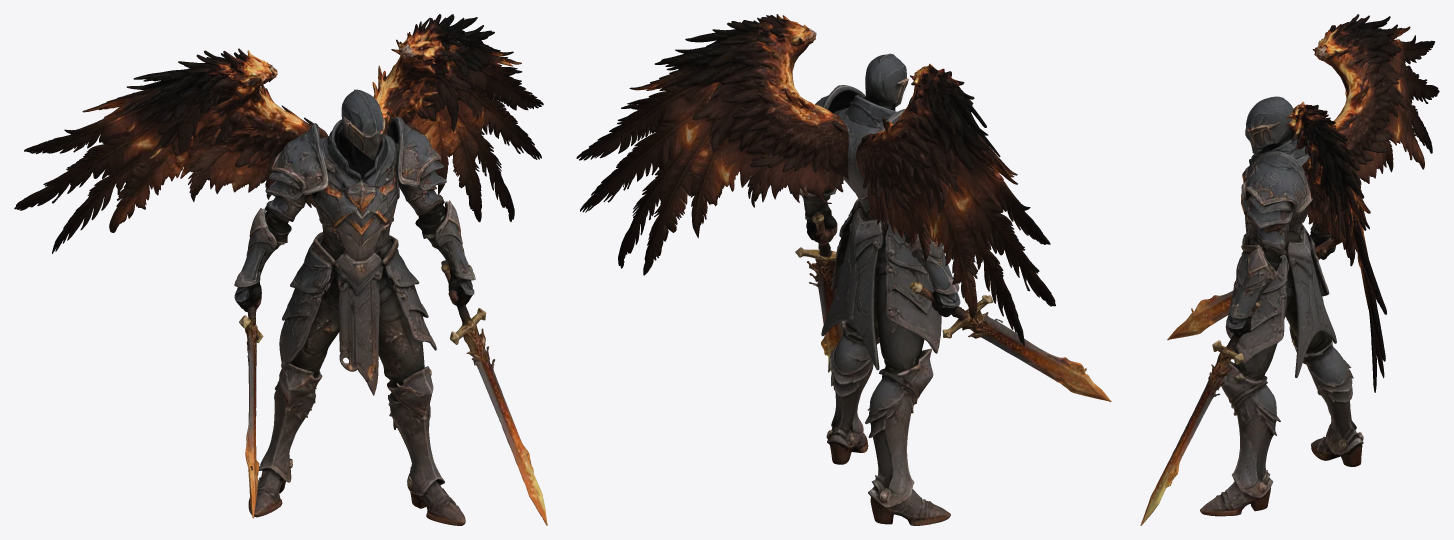
The model's file is ember_winged_fallen_angel_warrior.web.glb.
3 views of the same model, side by side, from view 1: azimuth 30°, elevation 25°; view 2: azimuth 150°, elevation 25°; view 3: azimuth 270°, elevation 25° (orthographic). The views are drawn at different scales.
Visible parts, largest first — view 1: tripo_node_e5b85d13_tripo_mat_e5b85d13_0; view 2: tripo_node_e5b85d13_tripo_mat_e5b85d13_0; view 3: tripo_node_e5b85d13_tripo_mat_e5b85d13_0.
Boxes of the visible parts, x1=… form: tripo_node_e5b85d13_tripo_mat_e5b85d13_0: x1=14, y1=14, x2=547, y2=525; tripo_node_e5b85d13_tripo_mat_e5b85d13_0: x1=576, y1=14, x2=1111, y2=525; tripo_node_e5b85d13_tripo_mat_e5b85d13_0: x1=1140, y1=14, x2=1439, y2=525.
Size of the model in its own units: 0.9772 by 0.852 by 0.5477.
1 material, 1 textured.
